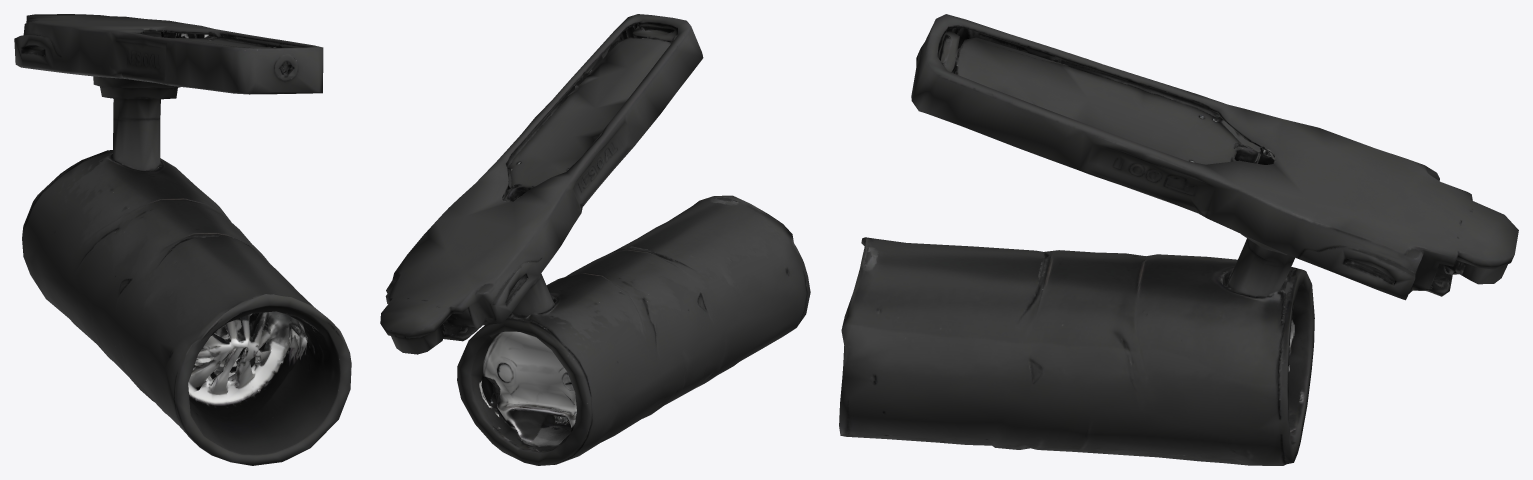
The model's file is luminaria10.obj.
3 renders of one model, left to right at view 1: azimuth 30°, elevation 25°; view 2: azimuth 150°, elevation 25°; view 3: azimuth 270°, elevation 25°, orthographic. The views are drawn at different scales.
Parts seen in each view (by area): view 1: luminaria10; view 2: luminaria10; view 3: luminaria10.
Boxes of the visible parts, bbox=[...] form: luminaria10: bbox=[14, 14, 351, 465]; luminaria10: bbox=[380, 14, 810, 465]; luminaria10: bbox=[839, 14, 1518, 465].
Bounding box in the file's own units: 1.01 × 1.63 × 2.34.
1 material, 1 textured.
